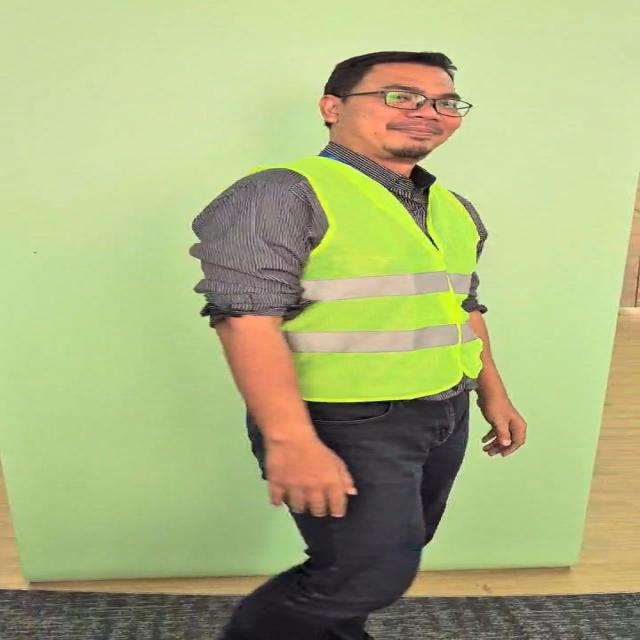goggles: (338, 91, 472, 117)
safety_vest: (235, 160, 488, 400)
